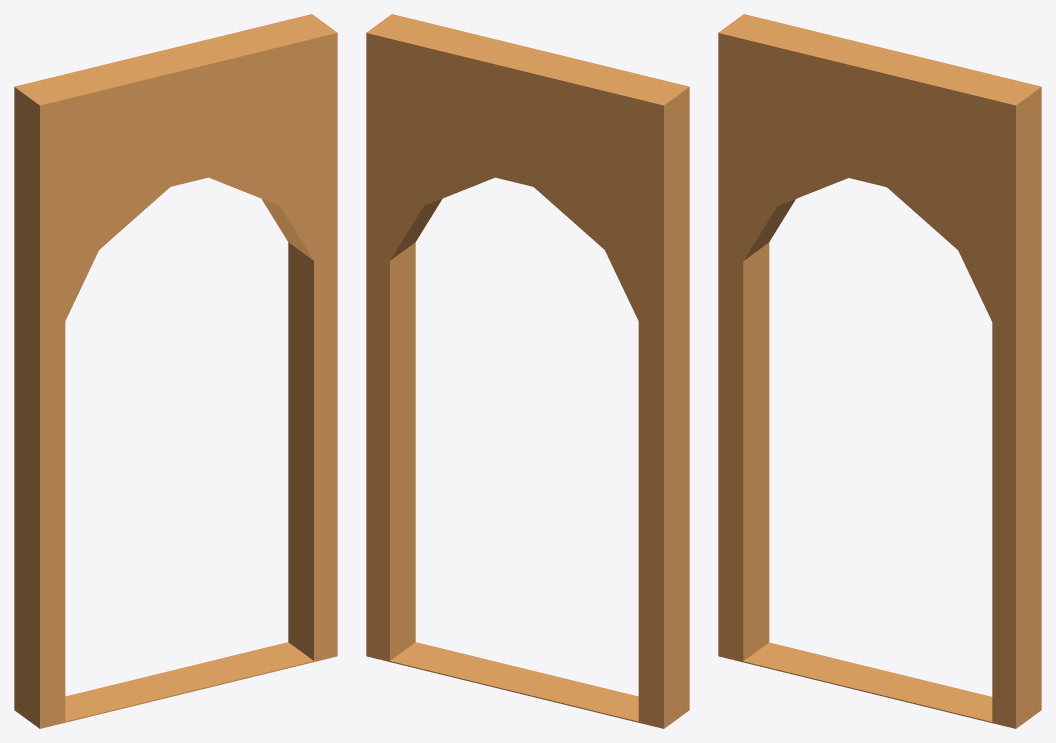
The model's file is YellowDoorframe.glb.
3 views of the same model, side by side, from view 1: azimuth 30°, elevation 25°; view 2: azimuth 150°, elevation 25°; view 3: azimuth 330°, elevation 25° (orthographic).
Parts seen in each view (by area): view 1: wall_yellow_door; view 2: wall_yellow_door; view 3: wall_yellow_door.
Boxes of the visible parts, bbox=[...] form: wall_yellow_door: bbox=[14, 14, 337, 728]; wall_yellow_door: bbox=[366, 14, 689, 728]; wall_yellow_door: bbox=[718, 14, 1041, 728].
Size of what is drawn, in the model's own units: 2 by 4 by 0.3.
Materials: 1 (1 with a texture image).
